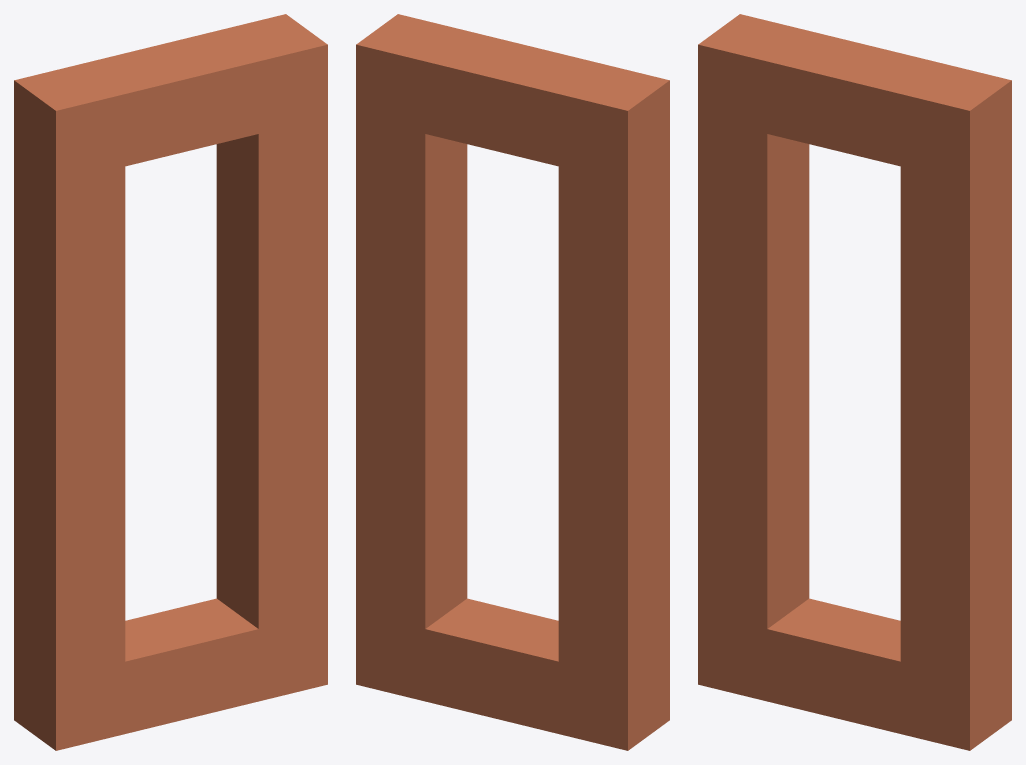
Rendered from window-brown-narrow.obj.
3 views of the same model, side by side, from view 1: azimuth 30°, elevation 25°; view 2: azimuth 150°, elevation 25°; view 3: azimuth 330°, elevation 25° (orthographic).
Size of the model in its own units: 0.1875 by 0.4219 by 0.05.
